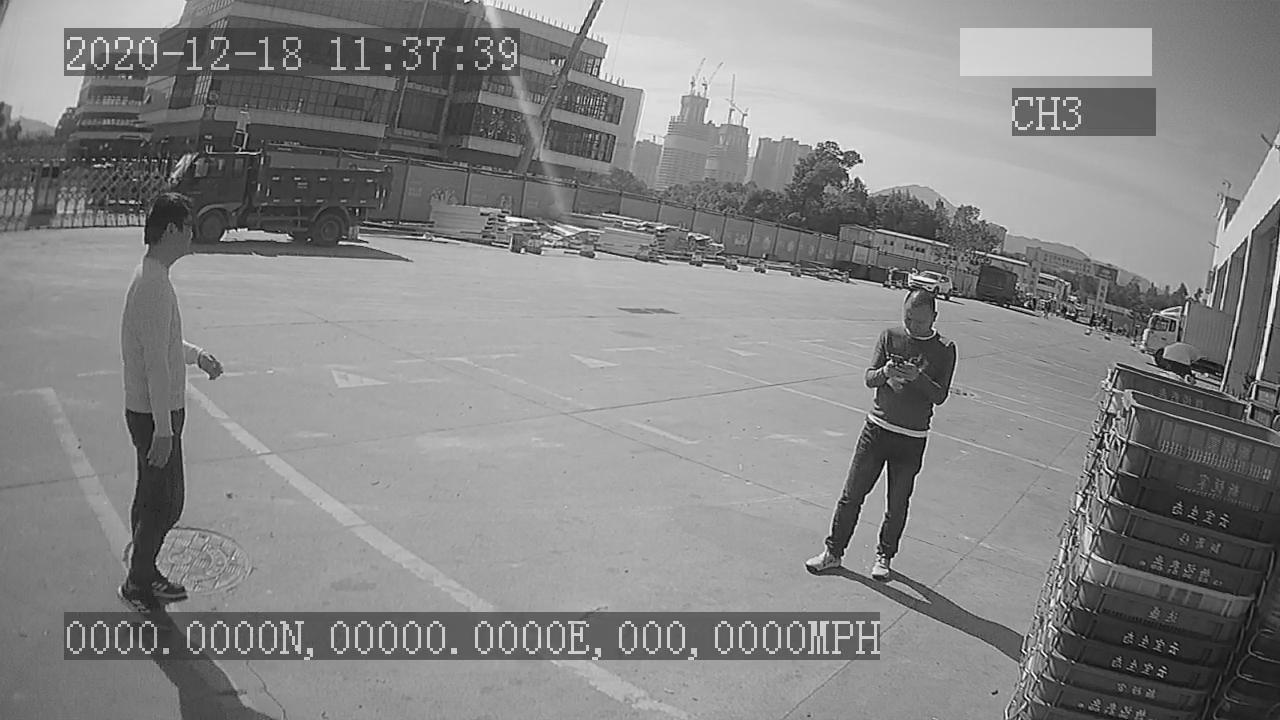person: (797, 288, 958, 594)
